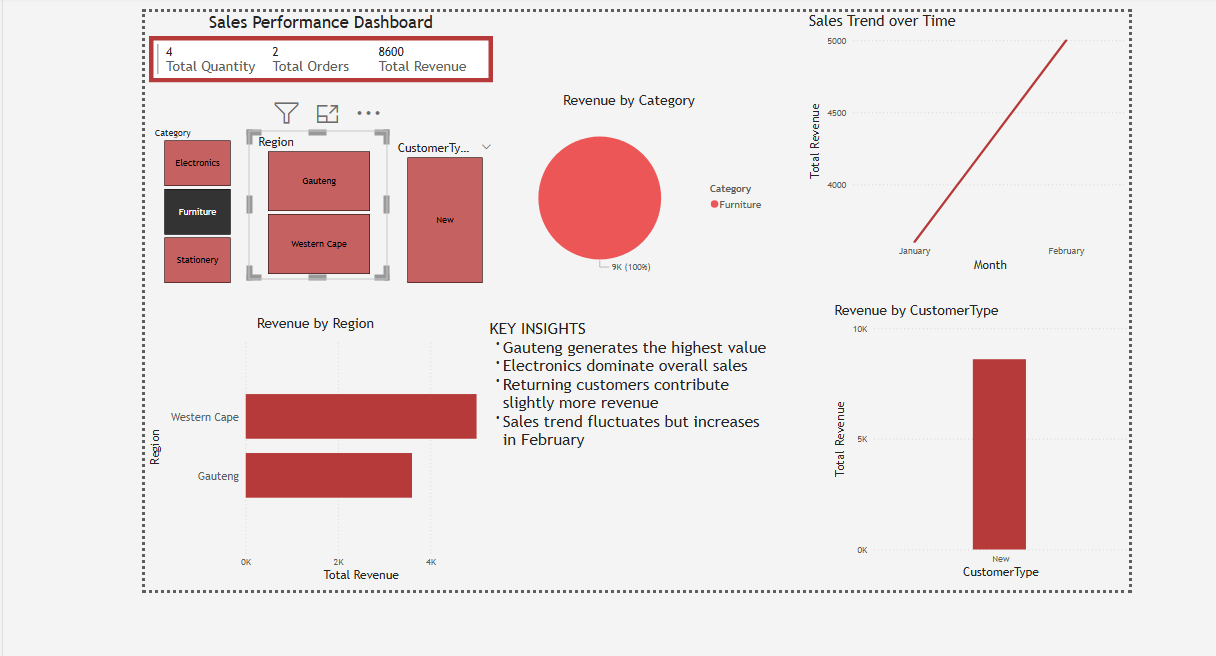

The dashboard page shown, as its layout file describes it:
{"tool":"powerbi","page":{"name":"Page 1","canvas":[1313,770],"ordinal":0},"visuals":[{"type":"barChart","title":"Revenue by Region","fields":{"Category":["Sheet1.Region"],"Y":["Sheet1.Total Revenue"]},"box":[0,404,454,360],"z":0},{"type":"lineChart","title":"Sales Trend over Time","fields":{"Y":["Sheet1.Total Revenue"],"Category":["Sheet1.Date.Variation.Date Hierarchy.Month","Sheet1.Date.Variation.Date Hierarchy.Day"]},"box":[880,0,434,350],"z":1000},{"type":"pieChart","title":"Revenue by Category","fields":{"Category":["Sheet1.Category","Sheet1.Region"],"Y":["Sheet1.Total Revenue"]},"box":[454,106,382,262],"z":2000},{"type":"columnChart","title":"Revenue by CustomerType","fields":{"Y":["Sheet1.Total Revenue"],"Category":["Sheet1.CustomerType"]},"box":[914,386,400,374],"z":3000},{"type":"multiRowCard","title":"Sales Performance Dashboard","fields":{"Values":["Sheet1.Total Quantity","Sheet1.Total Orders","Sheet1.Total Revenue"]},"box":[0,0,469,147],"z":4000},{"type":"slicer","fields":{"Values":["Sheet1.Category"]},"box":[0,148,138,220],"z":5000},{"type":"slicer","fields":{"Values":["Sheet1.Region"]},"box":[138,158,186,198],"z":6000},{"type":"slicer","fields":{"Values":["Sheet1.CustomerType"]},"box":[324,166,150,202],"z":6001},{"type":"textbox","box":[454,404,382,230],"z":6002}]}

Visuals, with their boxes on the page's 1313x770 design canvas (x1, y1, x2, y2). These are canvas units, not pixel positions in the 1216x656 screenshot, which may show the page scaled, cropped or inside an application window:
"Revenue by Region" barChart: [0, 404, 454, 764]
"Sales Trend over Time" lineChart: [880, 0, 1314, 350]
"Revenue by Category" pieChart: [454, 106, 836, 368]
"Revenue by CustomerType" columnChart: [914, 386, 1314, 760]
"Sales Performance Dashboard" multiRowCard: [0, 0, 469, 147]
slicer - Sheet1.Category: [0, 148, 138, 368]
slicer - Sheet1.Region: [138, 158, 324, 356]
slicer - Sheet1.CustomerType: [324, 166, 474, 368]
textbox: [454, 404, 836, 634]
